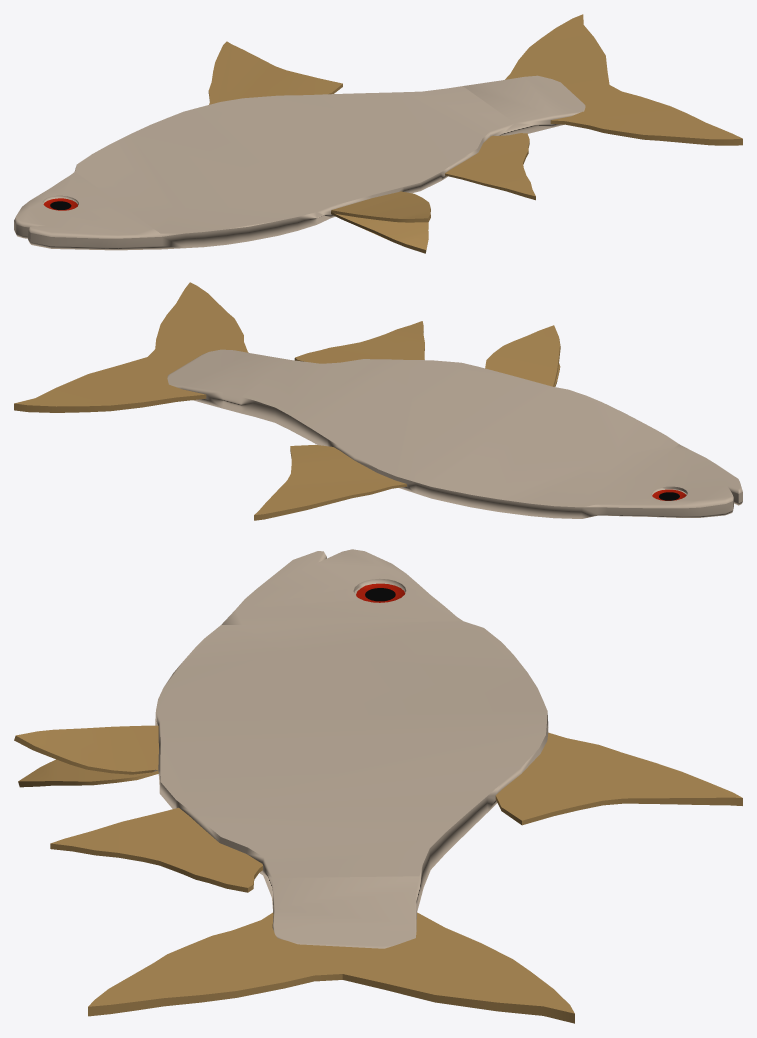
File: normal fish.fbx
The picture shows the model from 3 angles, top to bottom: view 1: azimuth 30°, elevation 25°; view 2: azimuth 150°, elevation 25°; view 3: azimuth 270°, elevation 25°; orthographic projection. The views are drawn at different scales.
Parts seen in each view (by area): view 1: polySurface10; view 2: polySurface10; view 3: polySurface10.
Boxes of the visible parts, x1,y1,x2,y2 form: polySurface10: [14, 14, 742, 253]; polySurface10: [14, 282, 742, 520]; polySurface10: [14, 549, 742, 1023].
Size of the model in its own units: 13.97 by 0.7519 by 9.46.
